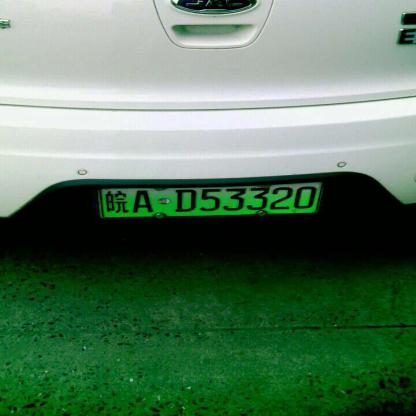lp: (100, 182, 322, 217)
